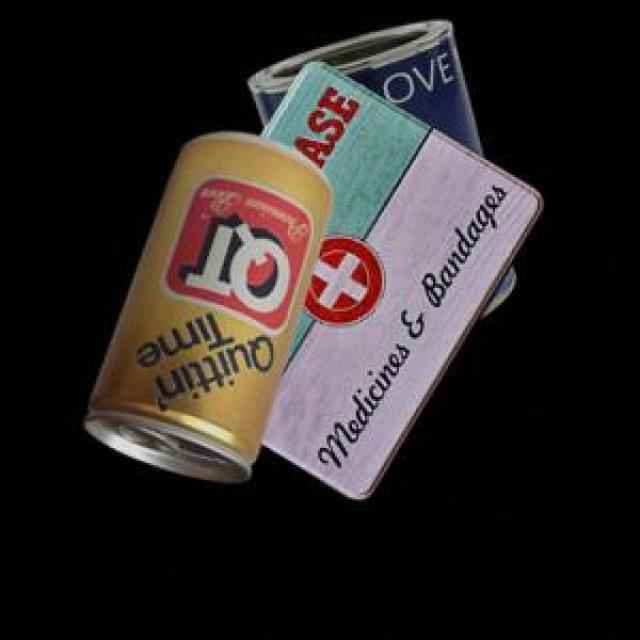Can: (257, 59, 541, 496), (80, 129, 330, 479), (244, 18, 511, 313)
